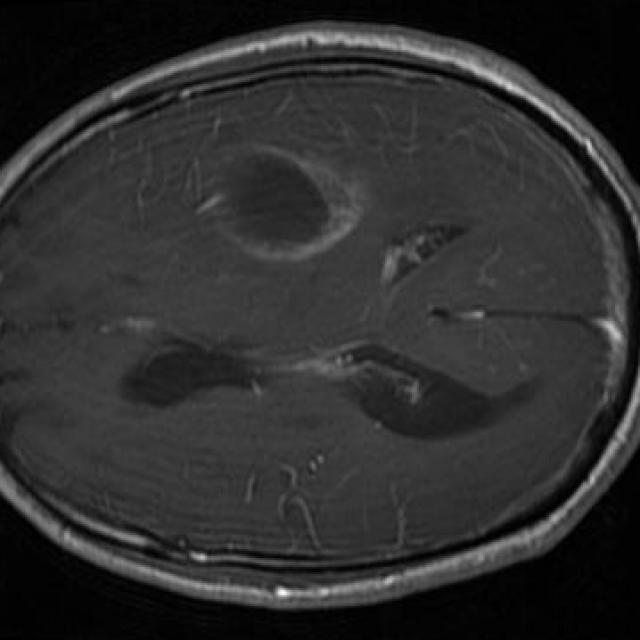glioma: (194, 143, 365, 262)
